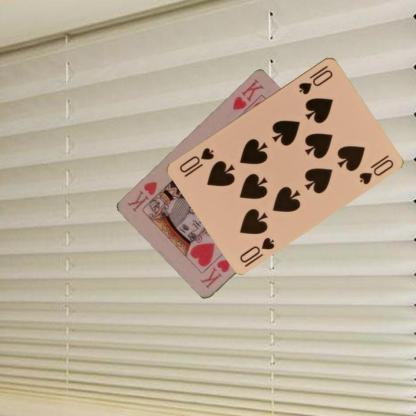10s: (296, 62, 334, 96), (237, 234, 276, 264)
Kh: (228, 76, 265, 113), (197, 256, 232, 291)
